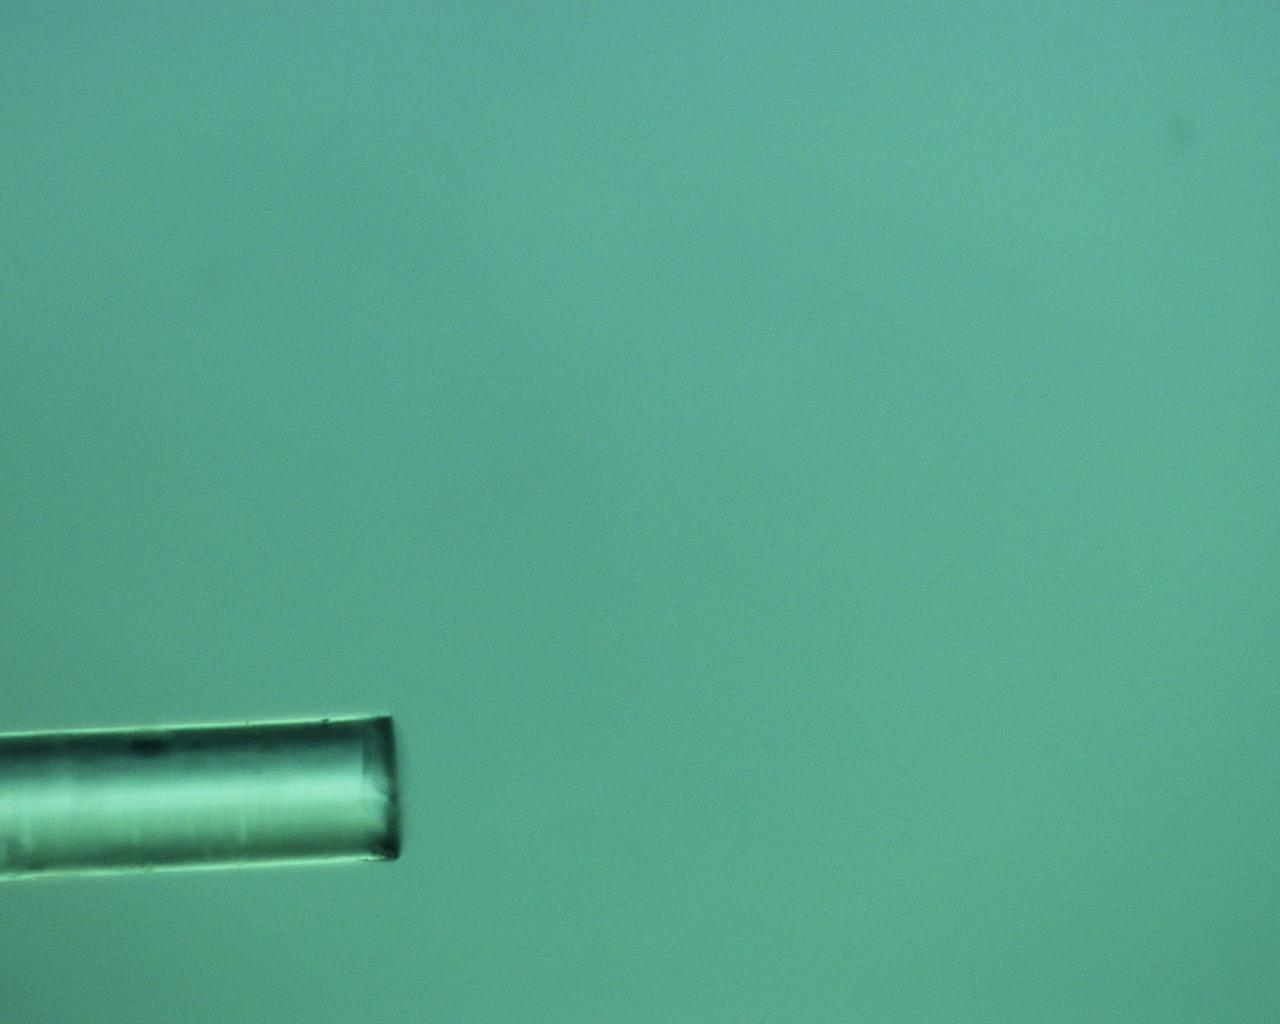fiber: (0, 714, 405, 878)
